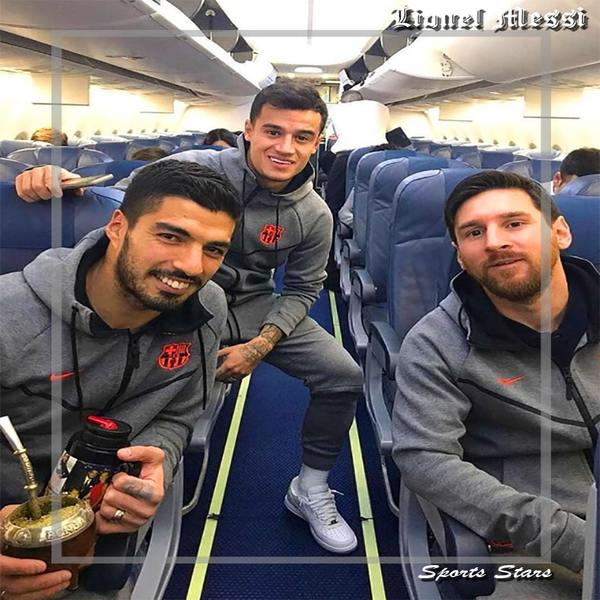nike: (43, 365, 87, 384), (490, 369, 528, 391)
